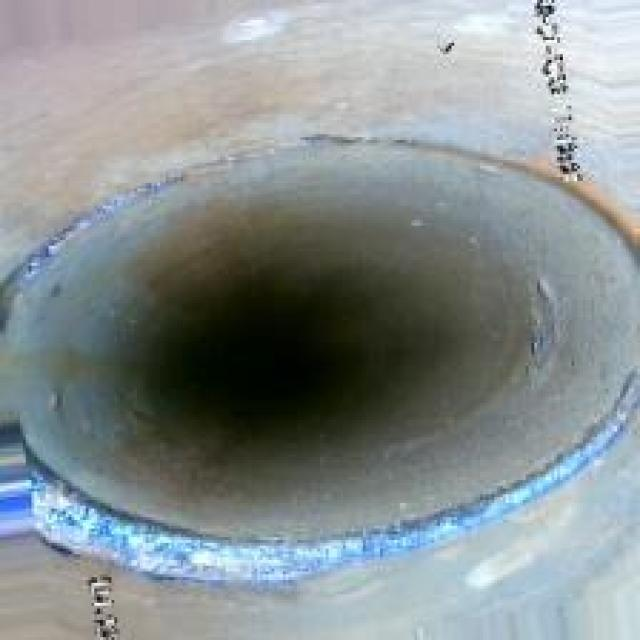joint: (12, 117, 637, 566)
